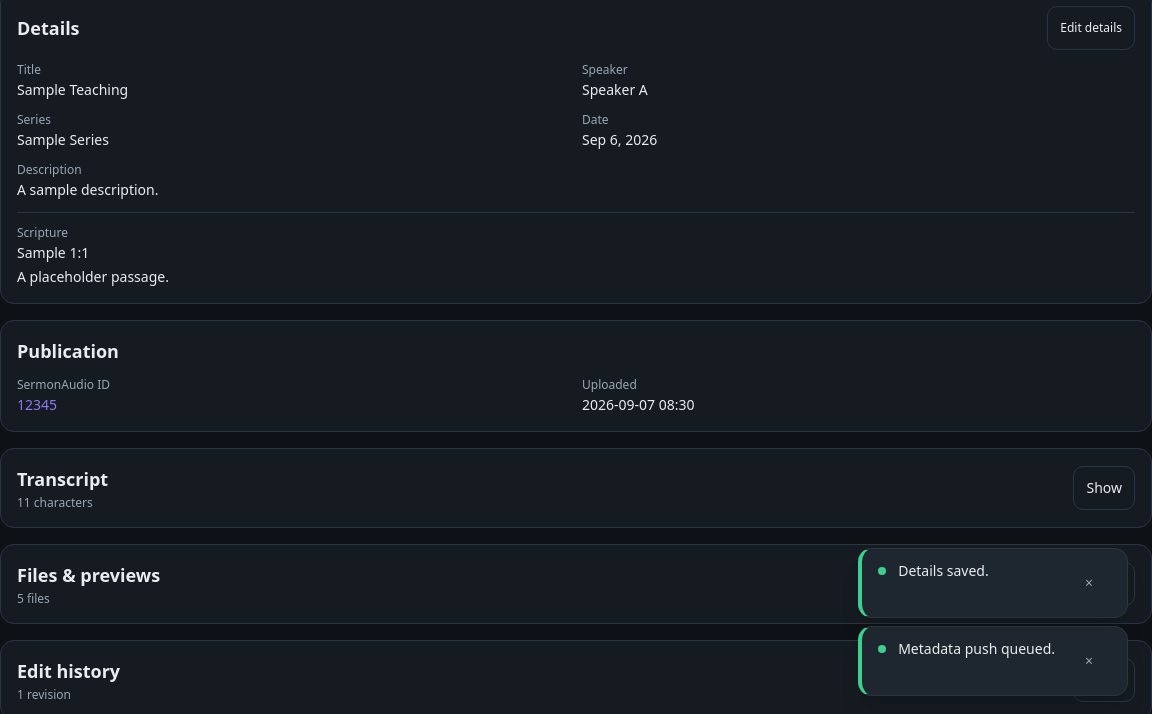
Test: LibraryDetail completed details editing › opens the transcript from the finished view with copy and download affordances
(page scrolled)
What coordinates should you click on to do the following:
click the button with aria-label "Expand Transcript"
I would click on:
 (1104, 488)
Its box is [1074,466,1135,510].
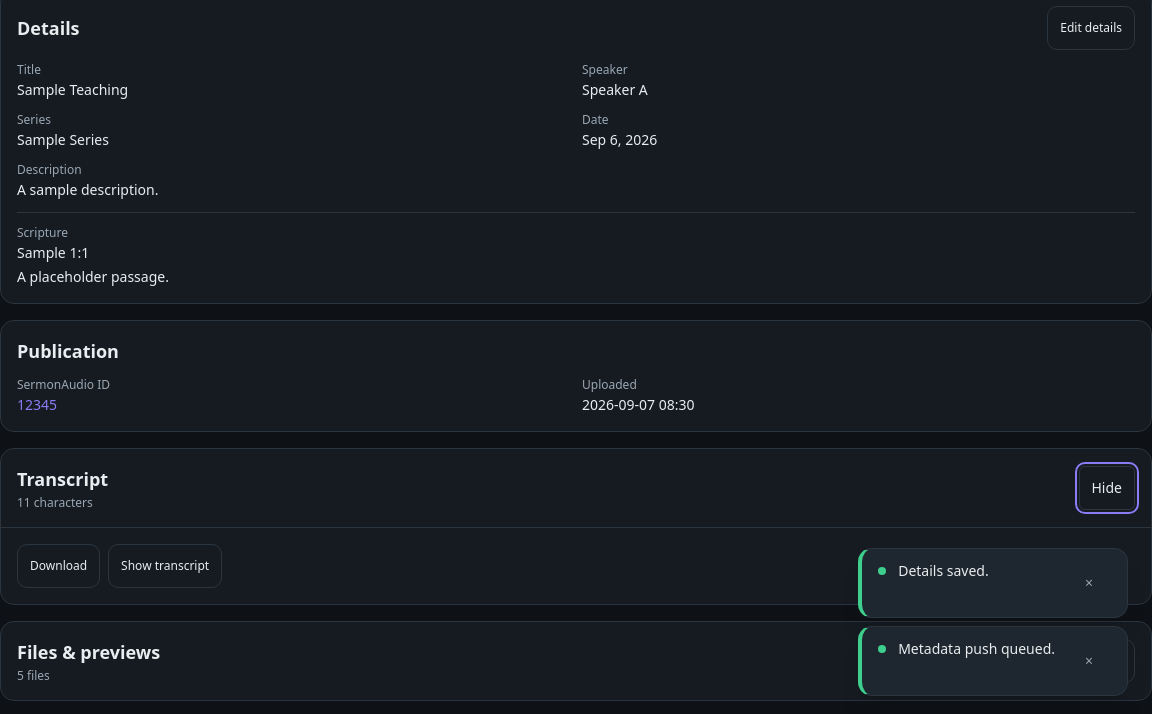
What coordinates should you click on to do the following:
click the button "Show transcript"
I would click on:
 (165, 566)
Its box is [108,544,222,588].
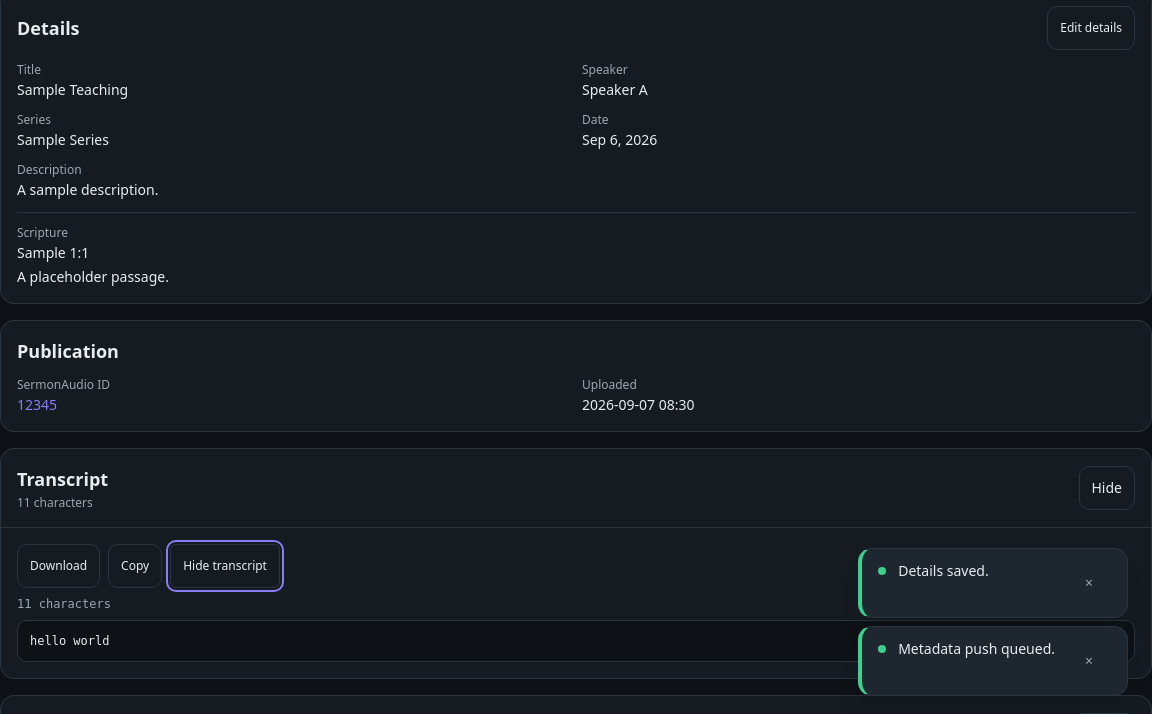
Expected: the link "Download" is shown, [17,544,100,588]
Expected: the text "hello world" is shown, [17,620,1135,662]
Expected: the button "Copy" is shown, [108,544,162,588]
